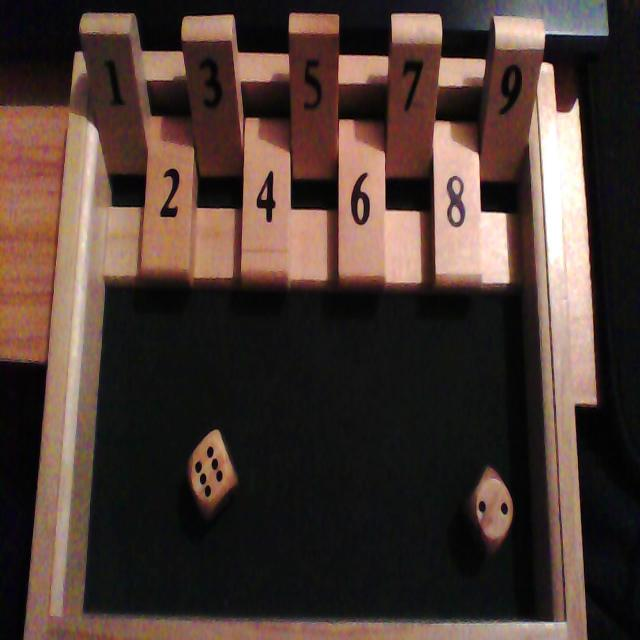2: (465, 463, 523, 550)
6: (185, 425, 241, 520)
C2: (142, 51, 192, 286)
C4: (242, 54, 292, 292)
C6: (341, 55, 385, 288)
C8: (437, 58, 482, 292)
O1: (81, 12, 144, 277)
O3: (182, 16, 242, 278)
O5: (290, 13, 338, 285)
O7: (387, 15, 442, 284)
O9: (482, 16, 545, 282)
